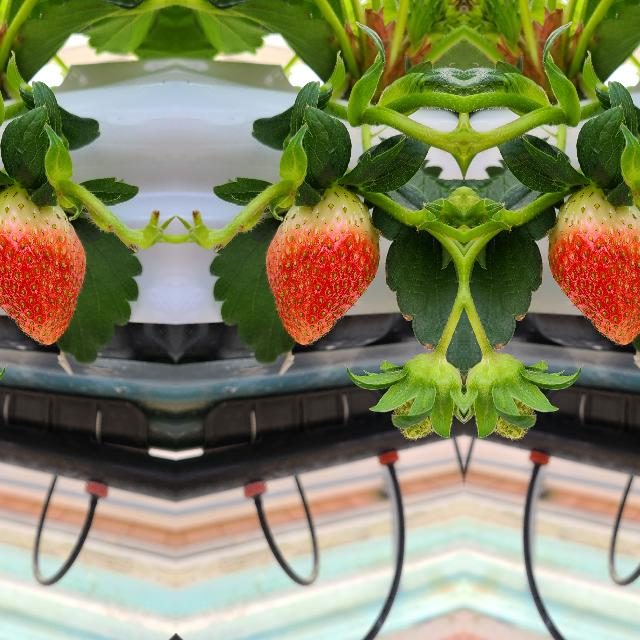Health_75: (264, 184, 381, 346), (545, 184, 640, 345), (0, 184, 86, 345)
